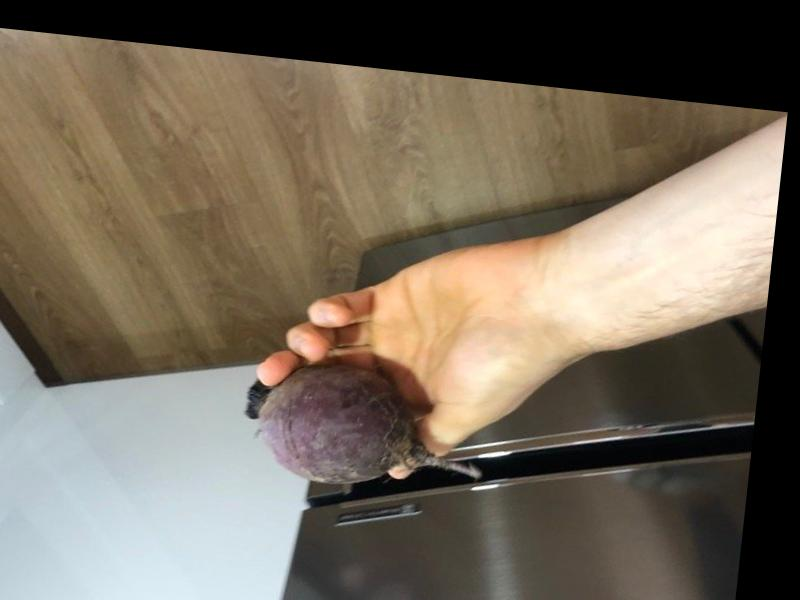Beet: (237, 358, 487, 497)
